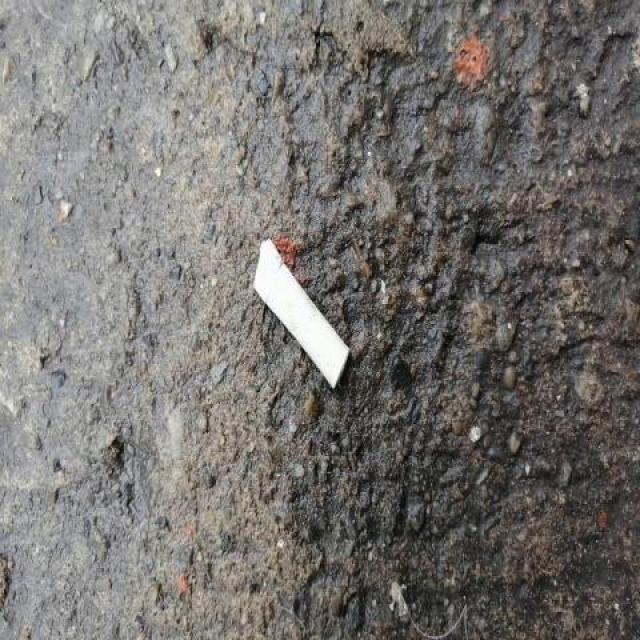non-organic waste: (250, 237, 354, 400)
